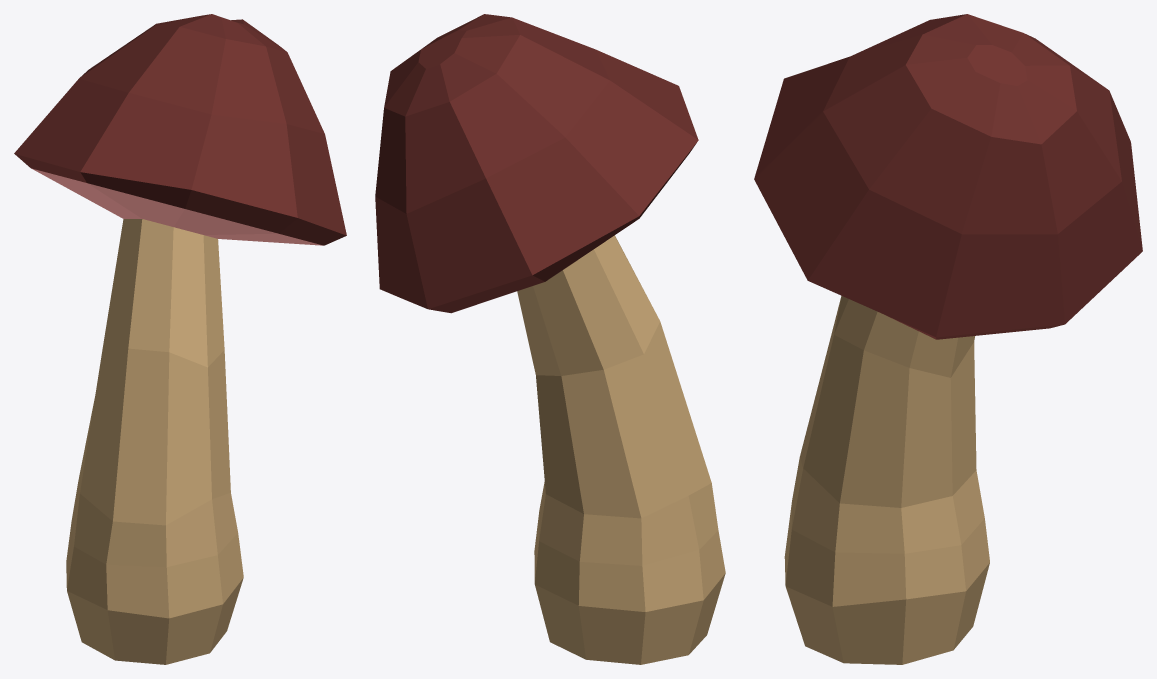
File: mushroom12.fbx
3 views of the same model, side by side, from view 1: azimuth 30°, elevation 25°; view 2: azimuth 150°, elevation 25°; view 3: azimuth 270°, elevation 25° (orthographic). The views are drawn at different scales.
Parts seen in each view (by area): view 1: Cylinder; view 2: Cylinder; view 3: Cylinder.
Boxes of the visible parts, bbox=[...] form: Cylinder: bbox=[14, 14, 346, 664]; Cylinder: bbox=[375, 14, 725, 664]; Cylinder: bbox=[754, 14, 1142, 664].
Bounding box in the file's own units: 408 × 830 × 446.
